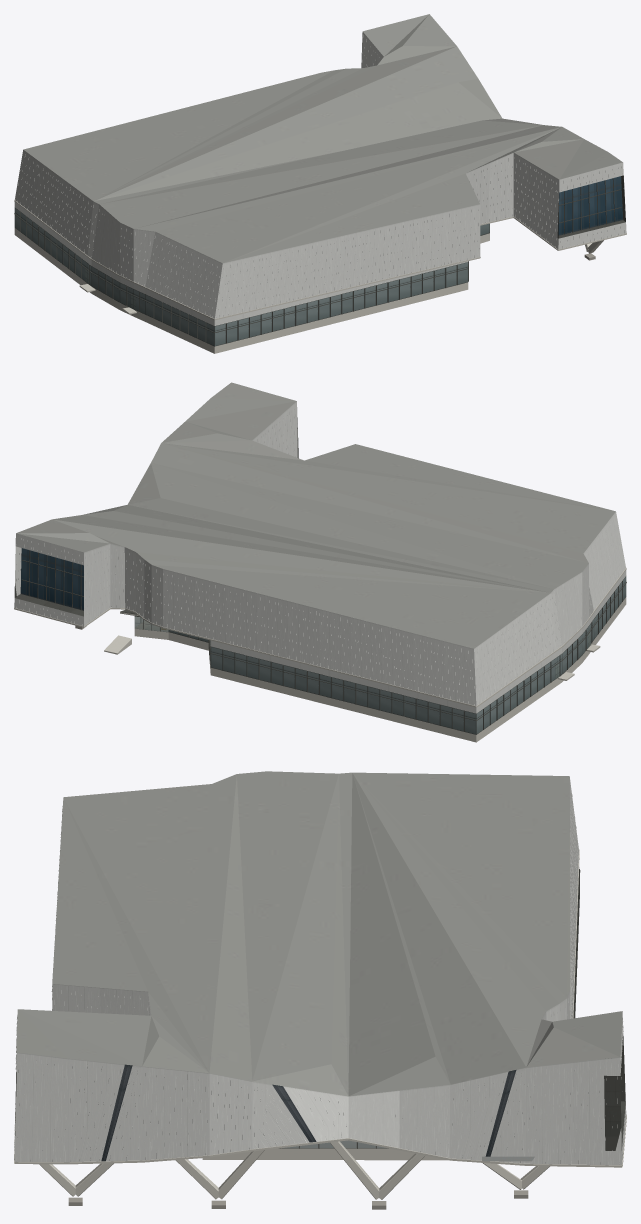
The model's file is crow_museum_of_asian_art.glb.
3 views of the same model, one above another, from view 1: azimuth 30°, elevation 25°; view 2: azimuth 150°, elevation 25°; view 3: azimuth 270°, elevation 25° (orthographic). The views are drawn at different scales.
Parts seen in each view (by area): view 1: crow_museum_of_asian_art_CampusAtlas_facade.035, crow_museum_of_asian_art_CampusAtlas_glass.035; view 2: crow_museum_of_asian_art_CampusAtlas_facade.035, crow_museum_of_asian_art_CampusAtlas_glass.035; view 3: crow_museum_of_asian_art_CampusAtlas_facade.035, crow_museum_of_asian_art_CampusAtlas_glass.035.
Part boxes in pixels (x1,y1,x2,y2): crow_museum_of_asian_art_CampusAtlas_facade.035: [14, 14, 626, 353]; crow_museum_of_asian_art_CampusAtlas_glass.035: [14, 176, 623, 346]; crow_museum_of_asian_art_CampusAtlas_facade.035: [14, 382, 626, 742]; crow_museum_of_asian_art_CampusAtlas_glass.035: [20, 548, 626, 734]; crow_museum_of_asian_art_CampusAtlas_facade.035: [14, 771, 626, 1209]; crow_museum_of_asian_art_CampusAtlas_glass.035: [101, 1064, 516, 1161].
Bounding box in the file's own units: 80.64 × 18.74 × 64.47.
Materials: 3 (3 with a texture image).
